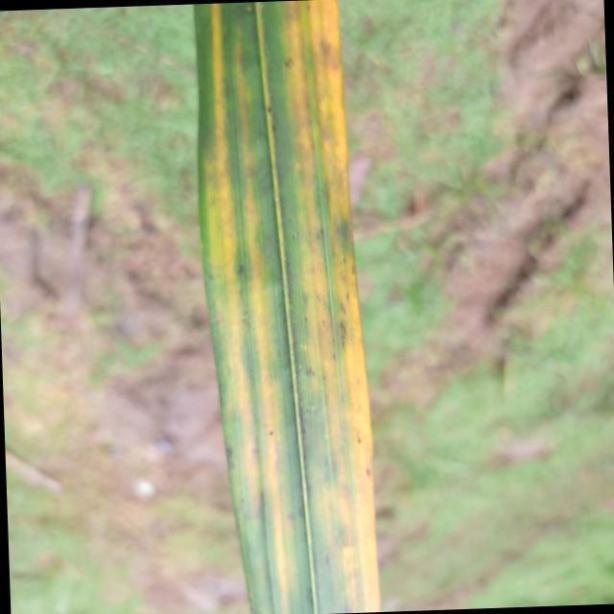Megnesium: (192, 0, 380, 614)
